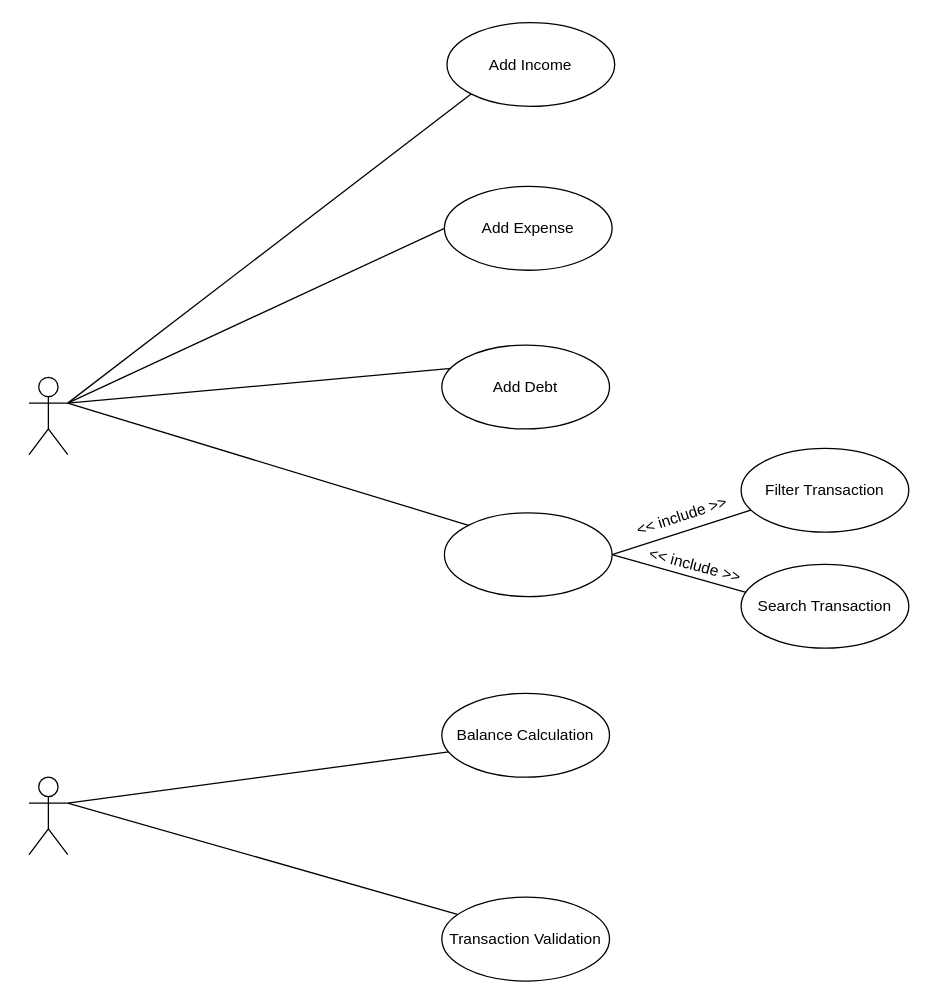
The diagram is 931 pixels wide and 1004 high, and some of its shapes have lost their labels. Here are the shapes that lost their labels. From the top down, the centre of each, then its label:
At (x=48, y=415): "User".
At (x=527, y=554): "View Transaction List".
At (x=48, y=815): "System".
